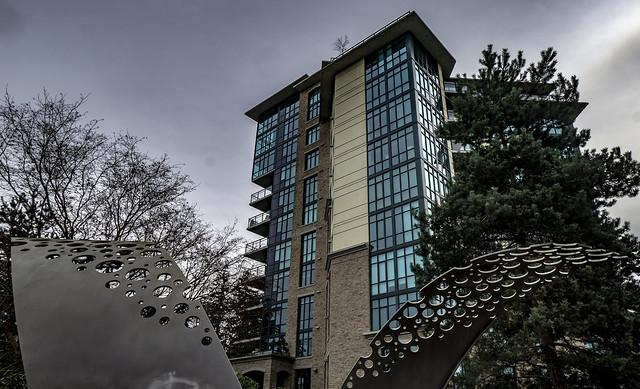building: (236, 8, 468, 389)
